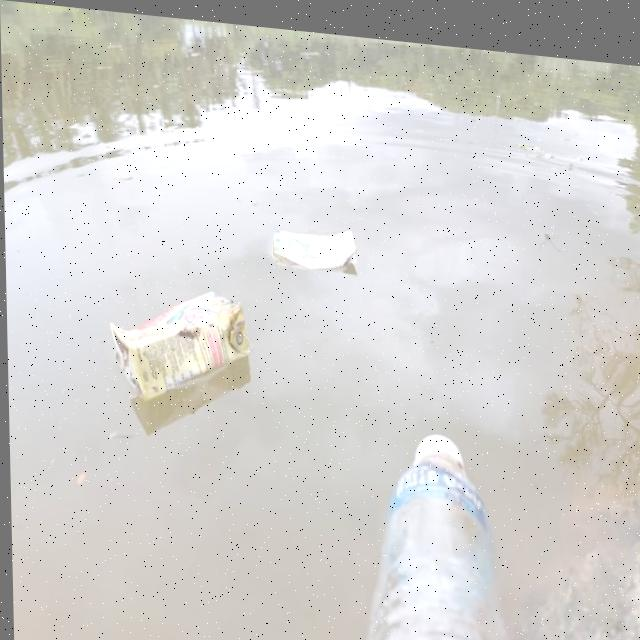paper: (71, 257, 294, 409), (251, 204, 374, 286)
waterbottle: (348, 404, 560, 640)
